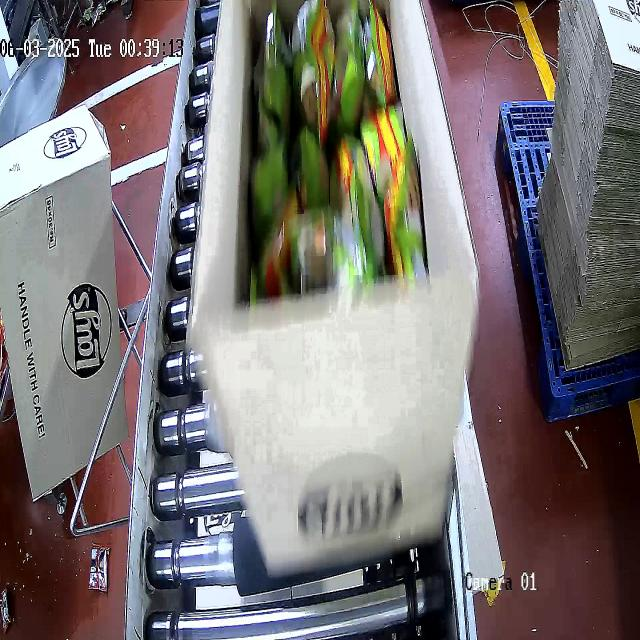YOGURT_HERB: (248, 1, 426, 306)
